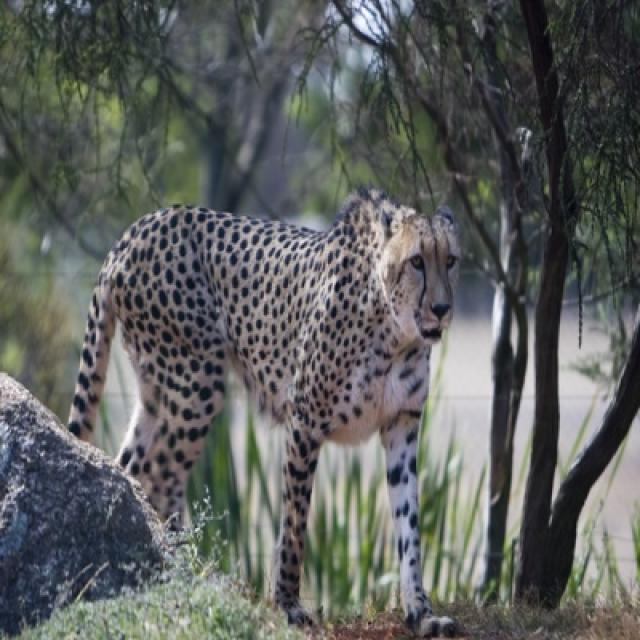Cheetah: (67, 186, 462, 637)
